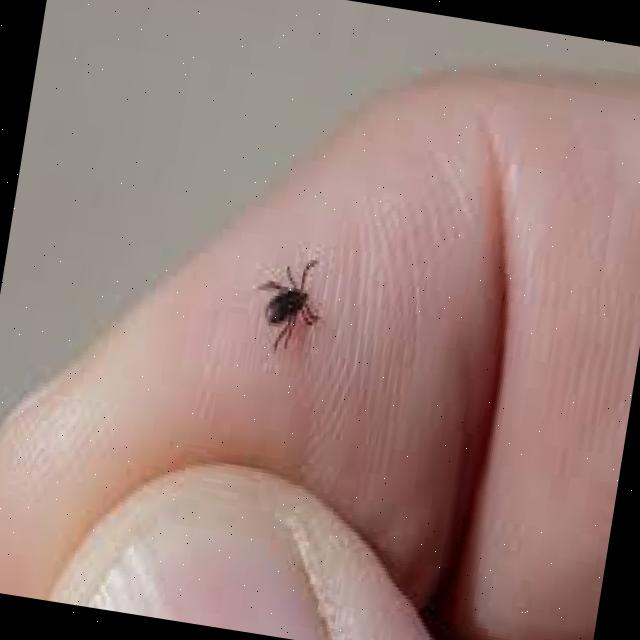kene: (239, 237, 347, 367)
